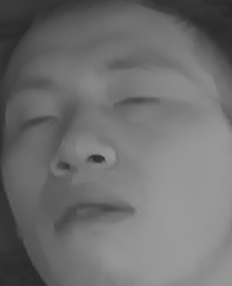eye: (113, 86, 161, 116), (15, 105, 60, 136)
mouth: (44, 187, 137, 240)
